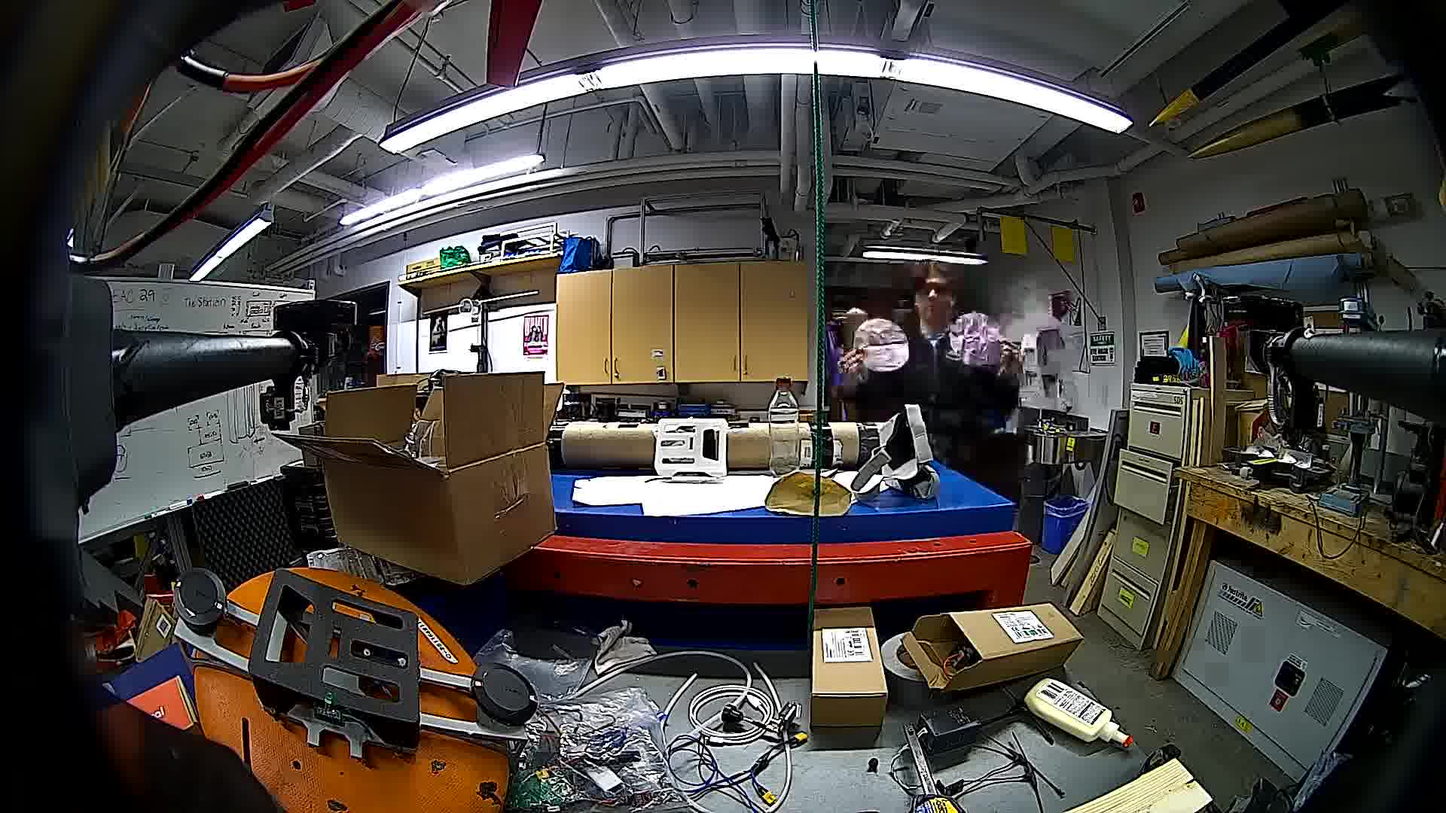Target: (946, 311, 1001, 366), (854, 320, 911, 372)
